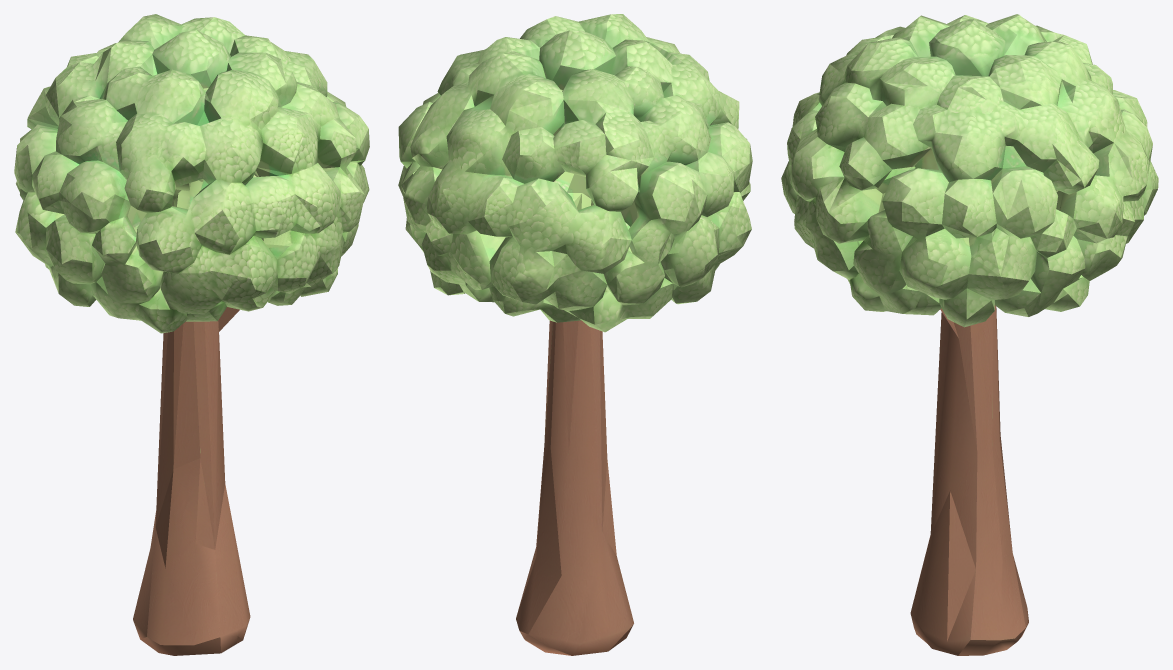
File: tree2.glb
3 views of the same model, side by side, from view 1: azimuth 30°, elevation 25°; view 2: azimuth 150°, elevation 25°; view 3: azimuth 270°, elevation 25° (orthographic).
Size of the model in its own units: 1.03 by 1.89 by 1.05.
Materials: 1 (1 with a texture image).
